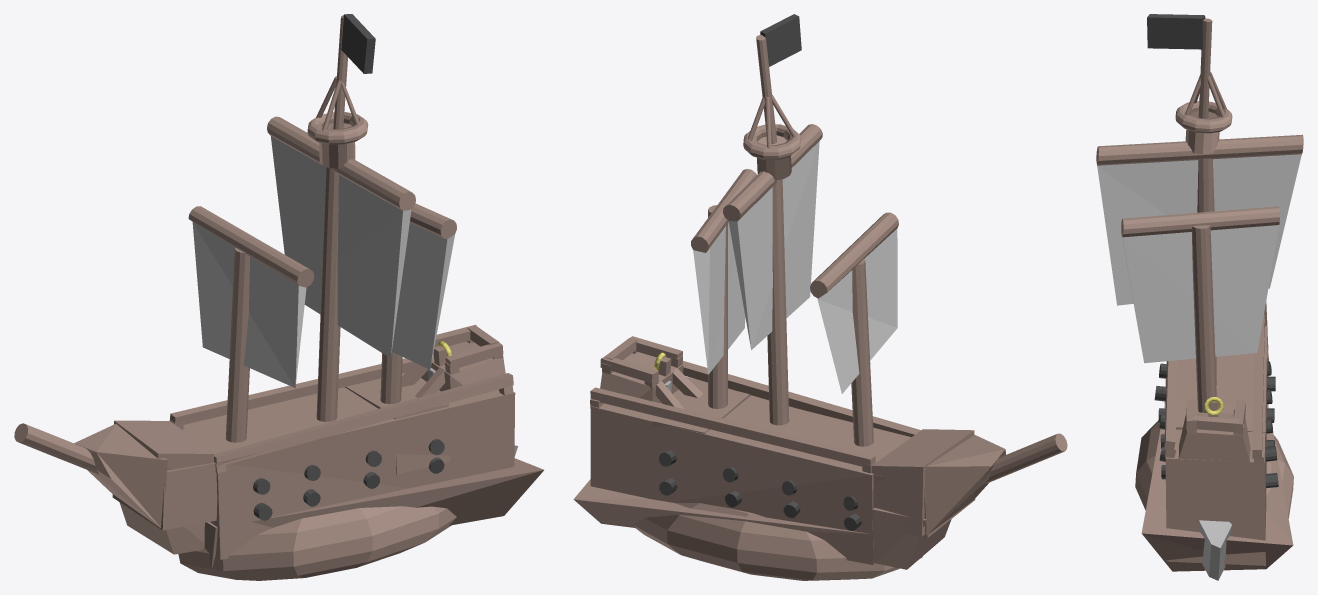
The model's file is pirateShip_zeroed.fbx.
3 views of the same model, side by side, from view 1: azimuth 30°, elevation 25°; view 2: azimuth 150°, elevation 25°; view 3: azimuth 270°, elevation 25° (orthographic). The views are drawn at different scales.
Visible parts, largest first — view 1: pirateShip_zeroed; view 2: pirateShip_zeroed; view 3: pirateShip_zeroed.
Boxes of the visible parts, x1,y1,x2,y2 form: pirateShip_zeroed: (14,14,543,580); pirateShip_zeroed: (573,14,1067,580); pirateShip_zeroed: (1096,14,1303,580).
Bounding box in the file's own units: 1.11 × 1.16 × 0.4253.
